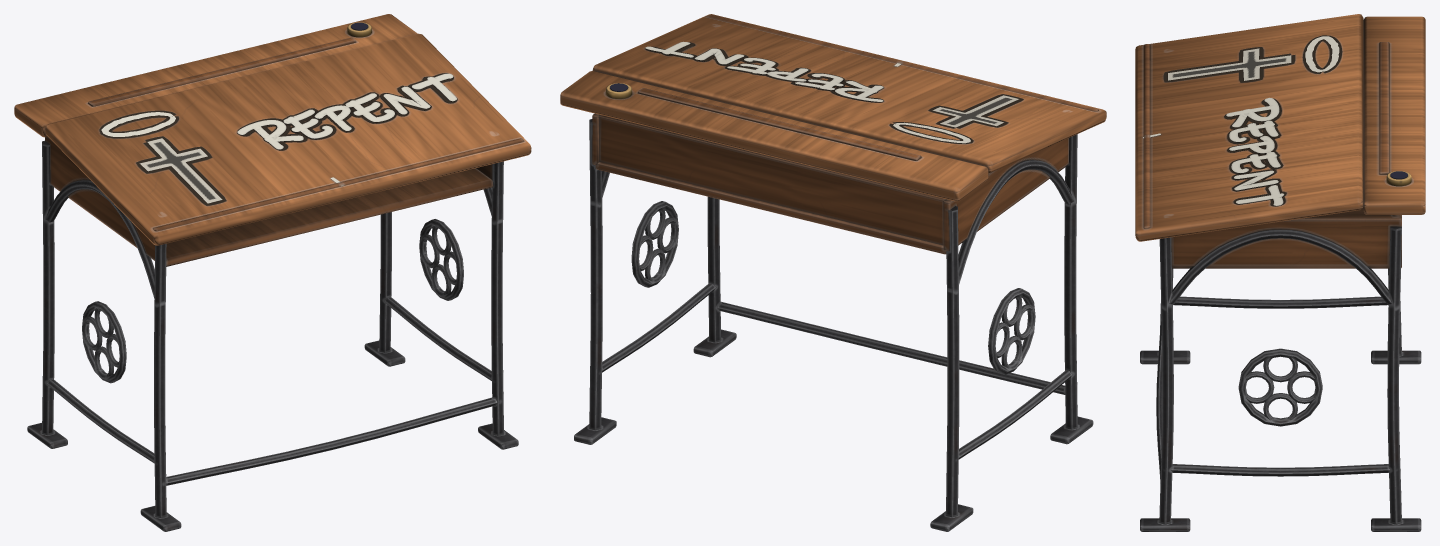
The model's file is StudentDeskPrankChoir.fbx.
3 views of the same model, side by side, from view 1: azimuth 30°, elevation 25°; view 2: azimuth 150°, elevation 25°; view 3: azimuth 270°, elevation 25° (orthographic). The views are drawn at different scales.
Visible parts, largest first — view 1: StudentDeskPrankChoir; view 2: StudentDeskPrankChoir; view 3: StudentDeskPrankChoir.
Boxes of the visible parts, x1,y1,x2,y2 form: StudentDeskPrankChoir: (14, 14, 531, 531); StudentDeskPrankChoir: (560, 14, 1106, 531); StudentDeskPrankChoir: (1135, 14, 1425, 531).
Bounding box in the file's own units: 300 × 255 × 196.
